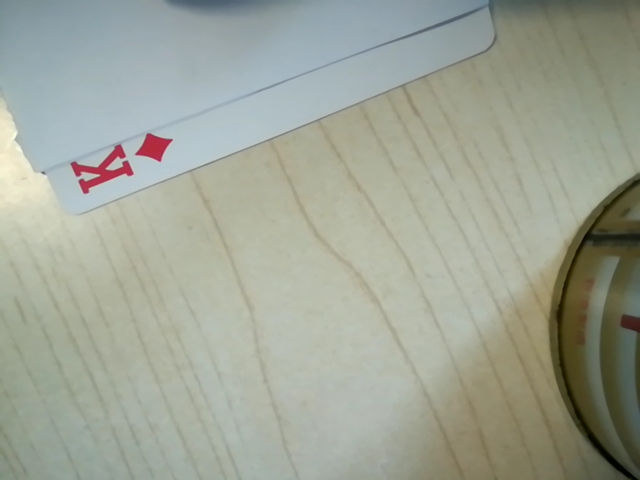fk k: (58, 135, 172, 202)
